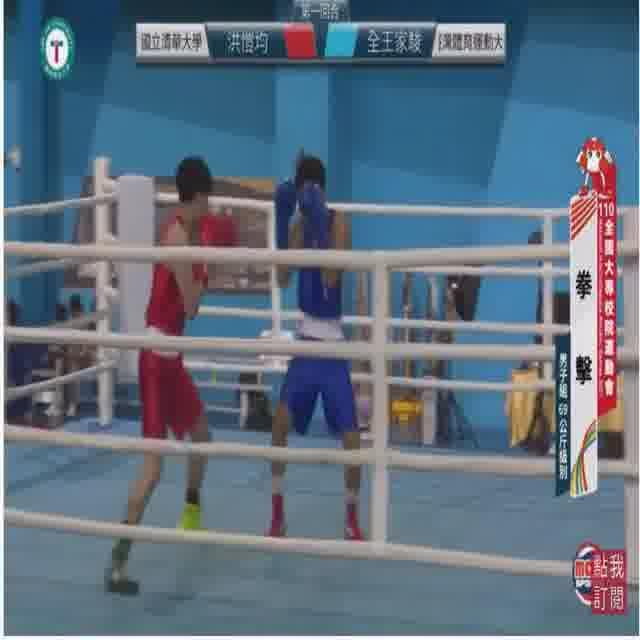blue-player: (268, 152, 367, 549)
red-player: (104, 155, 239, 589)
